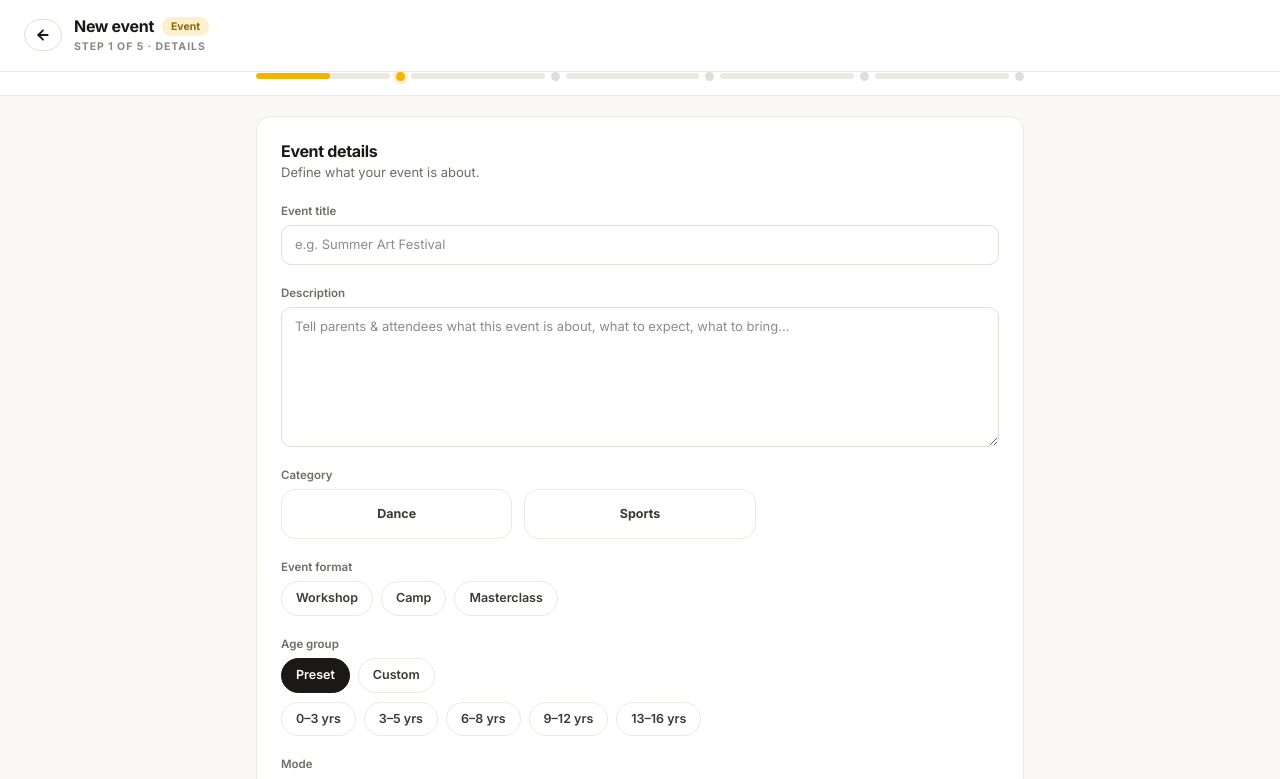
Test case: CreateEventDetails — form interactions › switches between Preset and Custom age group tabs
Click the button "Custom": [396, 675] box [358,658,435,693]
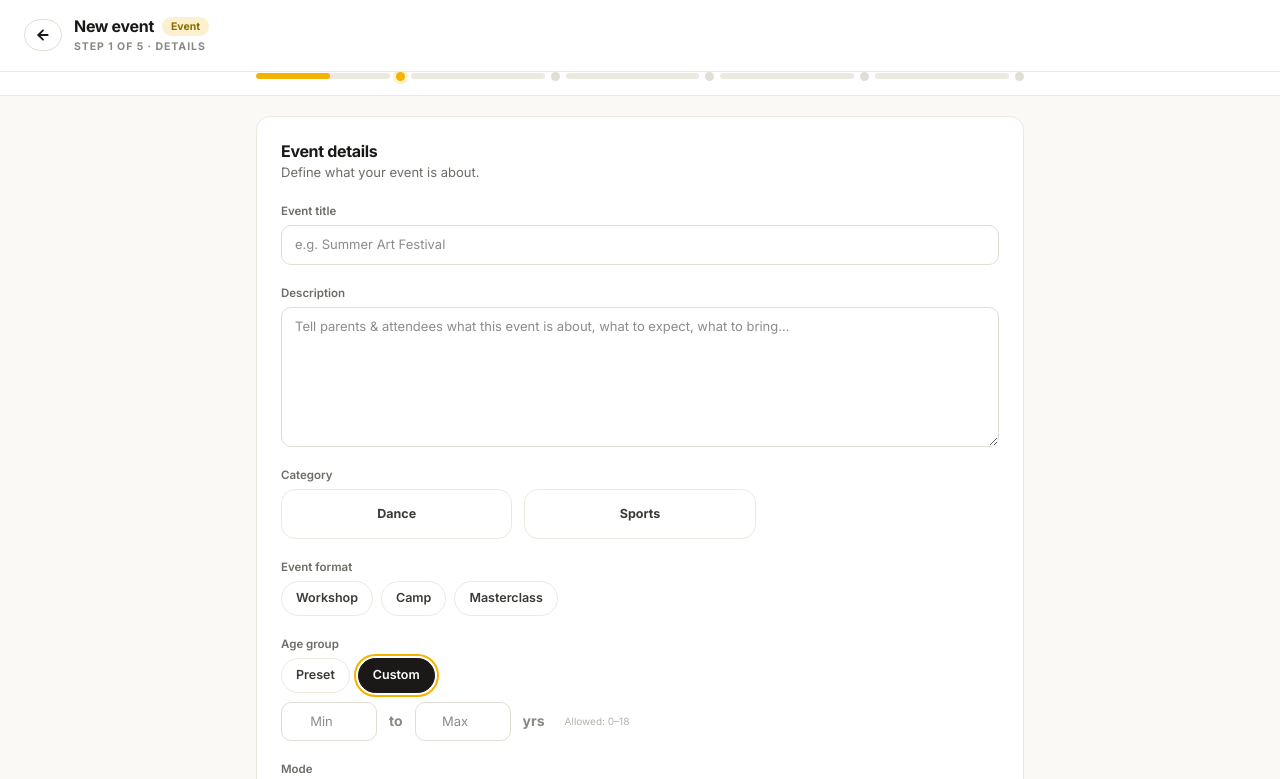
Expected: the number field with placeholder "Min" is shown, [281,702,377,741]
Expected: the number field with placeholder "Max" is shown, [415,702,511,741]
